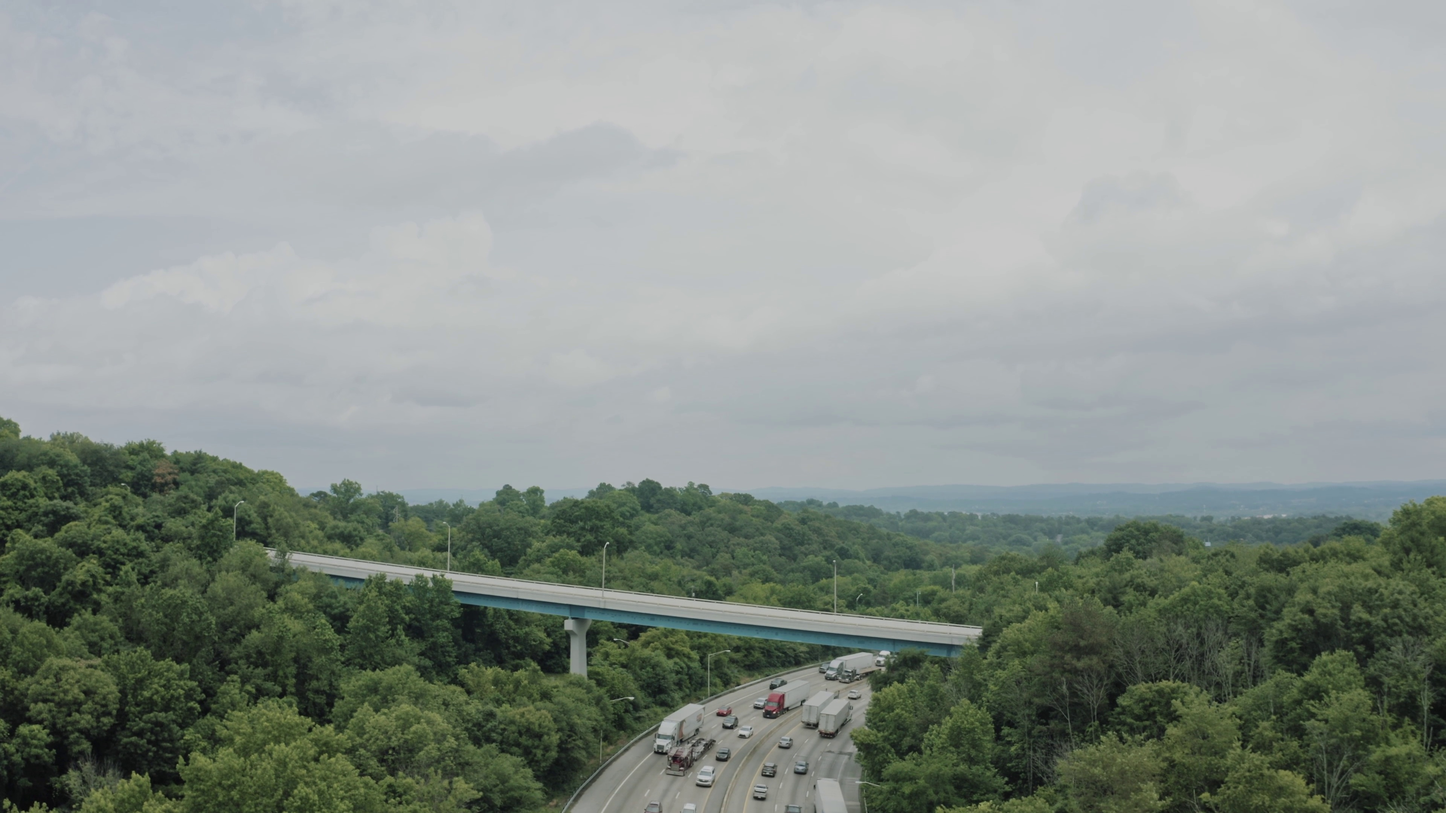Vehicle: (648, 719, 687, 756), (659, 745, 700, 780), (762, 692, 786, 719), (872, 649, 898, 671), (814, 773, 839, 792), (695, 765, 716, 787), (824, 658, 842, 681), (838, 669, 857, 684), (761, 762, 778, 777), (753, 784, 768, 800), (722, 715, 739, 729), (644, 801, 663, 813), (769, 678, 787, 690), (716, 747, 731, 761), (738, 725, 754, 738), (778, 736, 793, 749), (753, 696, 768, 709), (794, 761, 809, 774), (716, 705, 732, 717), (680, 803, 697, 813), (784, 804, 802, 813), (819, 662, 831, 673), (848, 690, 861, 700)
